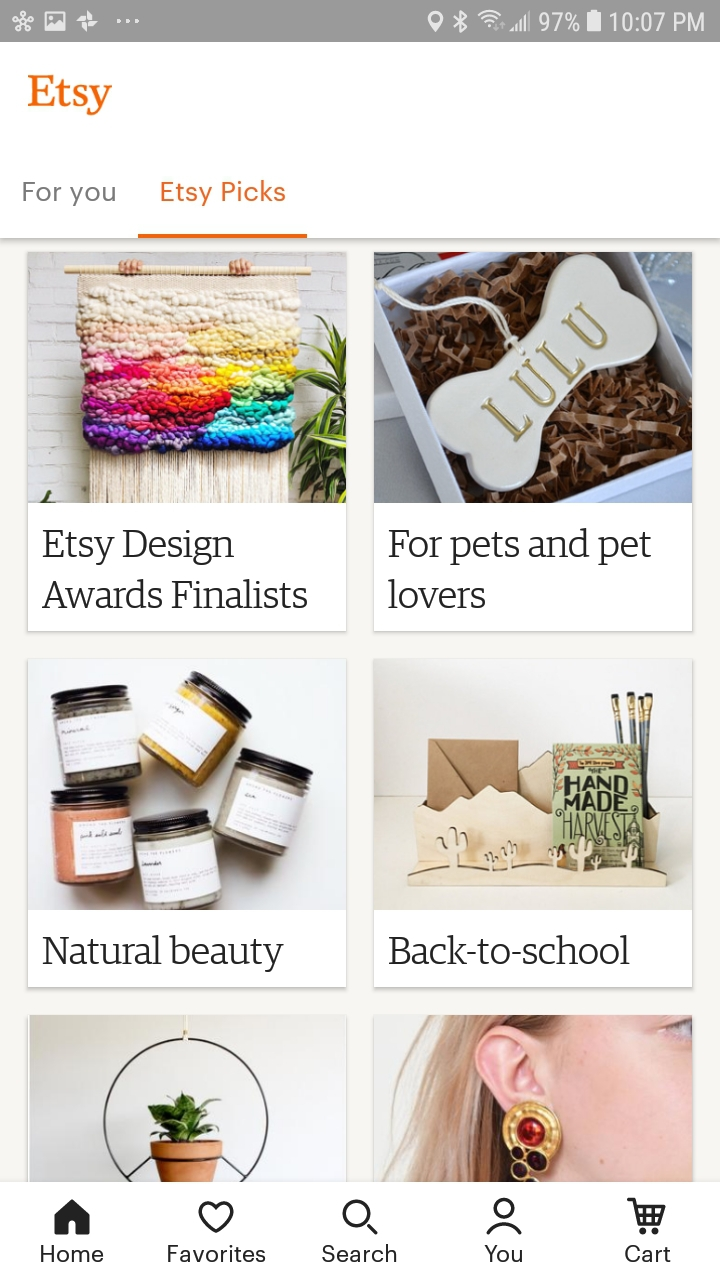Icon: (627, 1197, 666, 1235), (486, 1197, 522, 1236), (342, 1198, 378, 1235), (55, 1199, 91, 1235), (198, 1200, 235, 1233)
Image: (374, 659, 692, 910), (27, 253, 346, 503), (28, 660, 346, 910), (374, 253, 692, 503), (374, 1015, 693, 1182), (30, 1015, 348, 1182)
Text: (388, 528, 652, 610), (42, 530, 309, 610), (42, 934, 285, 973), (388, 933, 630, 965), (28, 75, 114, 117), (161, 180, 286, 207), (23, 182, 116, 207), (168, 1245, 266, 1263), (322, 1243, 397, 1262), (41, 1244, 104, 1263), (625, 1245, 670, 1262), (484, 1244, 523, 1263)
UpperTaskBar: (1, 1, 720, 43)
